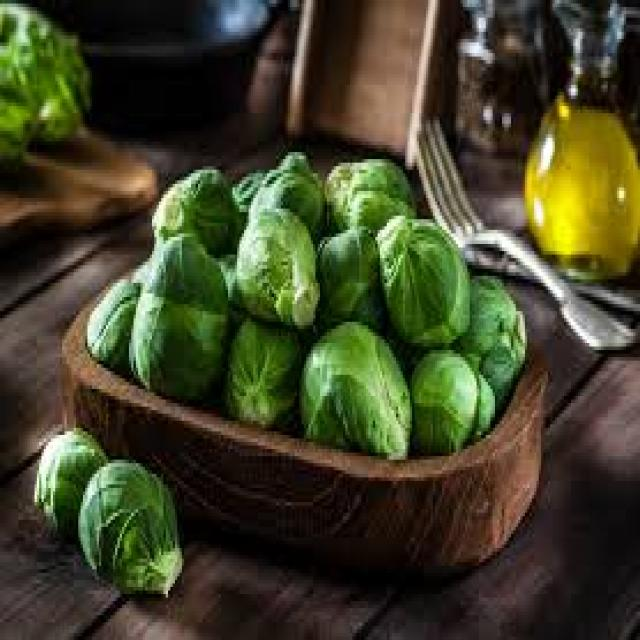organic waste: (127, 230, 228, 403), (297, 314, 412, 452), (74, 453, 184, 594), (0, 0, 90, 163), (373, 209, 467, 343), (225, 202, 318, 326), (405, 343, 495, 453), (219, 315, 299, 428), (456, 265, 522, 393), (32, 424, 102, 538), (150, 166, 240, 251), (320, 152, 414, 230), (313, 227, 385, 326), (242, 148, 324, 234), (85, 279, 136, 368), (221, 166, 267, 234)
